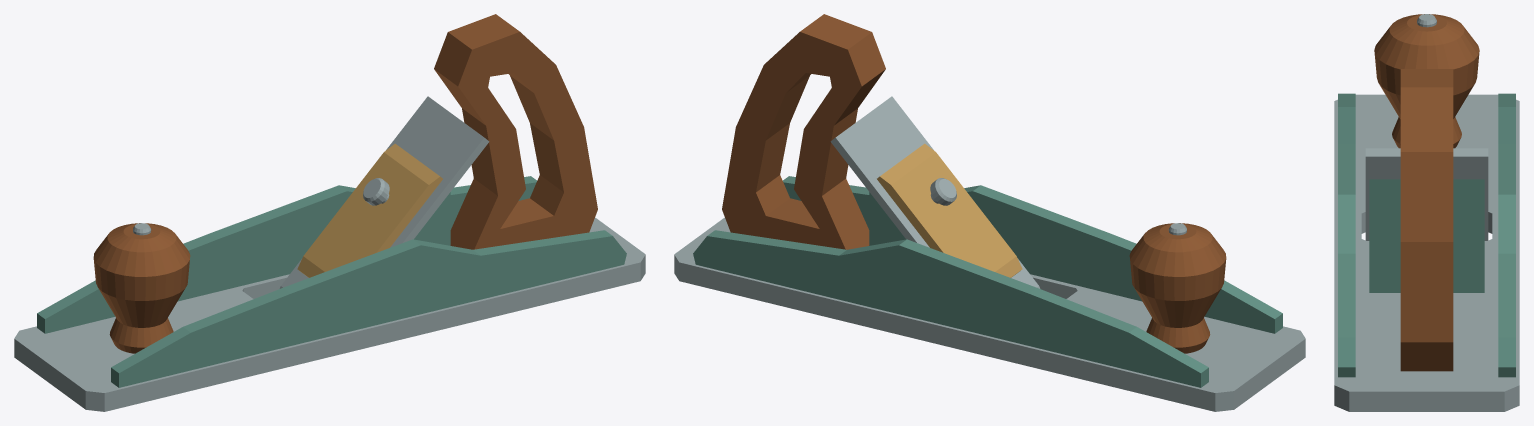
The picture shows the model from 3 angles, left to right: view 1: azimuth 30°, elevation 25°; view 2: azimuth 150°, elevation 25°; view 3: azimuth 270°, elevation 25°; orthographic projection. The views are drawn at different scales.
Visible parts, largest first — view 1: Body_NearCheek, Grip_RearOpenTote, Sole_ThroughMouth, Body_FarCheek, Grip_FrontKnob, Clamp_LeverCap, Blade_PlaningIron, Frog_InclinedBed, Clamp_PressureScrew; view 2: Body_FarCheek, Grip_RearOpenTote, Sole_ThroughMouth, Body_NearCheek, Grip_FrontKnob, Clamp_LeverCap, Blade_PlaningIron, Frog_InclinedBed, Clamp_PressureScrew; view 3: Sole_ThroughMouth, Grip_RearOpenTote, Frog_InclinedBed, Grip_FrontKnob, Body_FarCheek, Body_NearCheek, Blade_PlaningIron, Fastener_KnobScrew.
Boxes of the visible parts, x1,y1,x2,y2 form: Body_NearCheek: (111,230,626,387); Grip_RearOpenTote: (434,14,597,249); Sole_ThroughMouth: (14,217,645,411); Body_FarCheek: (37,176,536,333); Grip_FrontKnob: (93,223,190,353); Clamp_LeverCap: (297,143,442,277); Blade_PlaningIron: (279,96,489,288); Frog_InclinedBed: (414,192,450,245); Clamp_PressureScrew: (363,178,389,205); Body_FarCheek: (693,230,1208,387); Grip_RearOpenTote: (722,14,885,249); Sole_ThroughMouth: (674,217,1305,411); Body_NearCheek: (783,176,1282,333); Grip_FrontKnob: (1129,223,1226,353); Clamp_LeverCap: (877,143,1022,277); Blade_PlaningIron: (830,96,1040,288); Frog_InclinedBed: (869,192,905,245); Clamp_PressureScrew: (930,178,956,205); Sole_ThroughMouth: (1334,94,1519,411); Grip_RearOpenTote: (1400,69,1453,371); Frog_InclinedBed: (1369,179,1484,292); Grip_FrontKnob: (1374,14,1479,148); Body_FarCheek: (1498,93,1515,377); Body_NearCheek: (1338,93,1355,377); Blade_PlaningIron: (1365,148,1488,240); Fastener_KnobScrew: (1417,14,1436,27).
Size of the model in its own units: 0.28 by 0.119 by 0.074.
